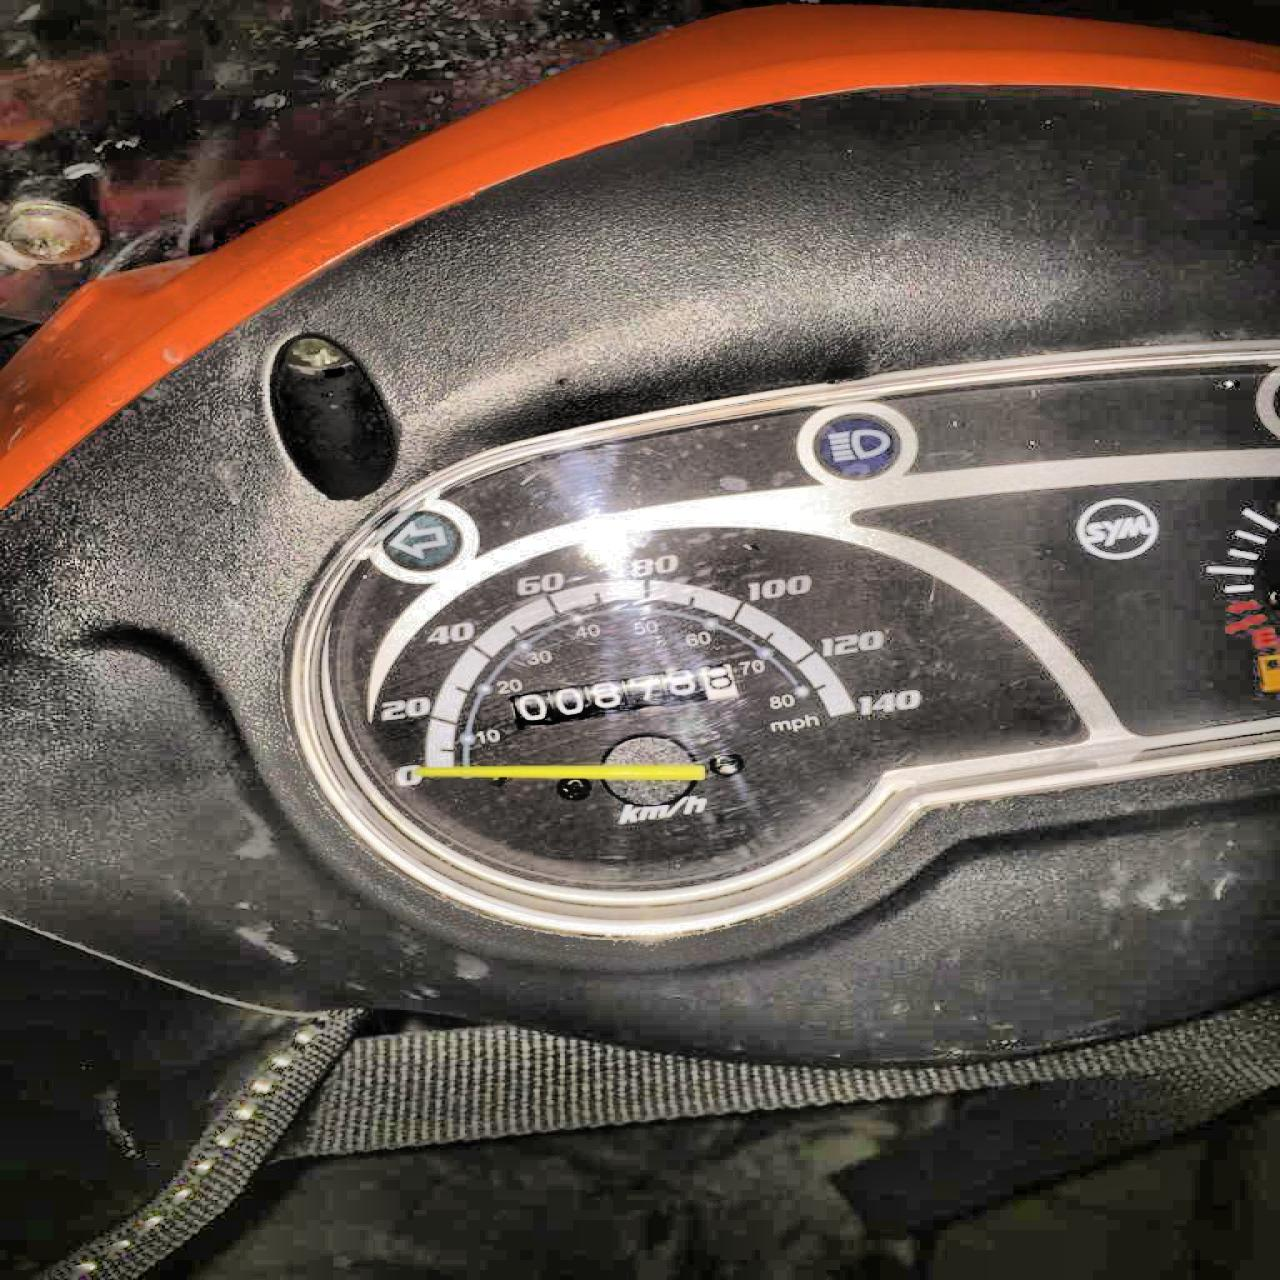0: (513, 693, 549, 722), (553, 685, 584, 714), (506, 676, 522, 692), (538, 651, 552, 663)
3: (523, 651, 537, 668)
7: (628, 670, 659, 701), (737, 659, 748, 675)
8: (590, 676, 624, 709), (702, 661, 734, 693), (663, 667, 696, 697)
odometer: (505, 652, 748, 733)
